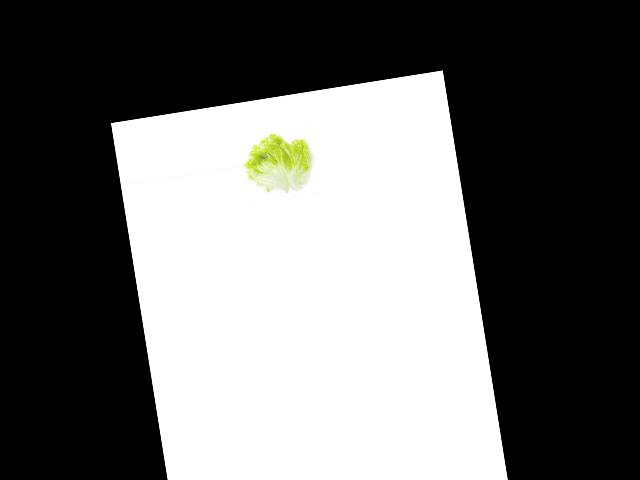lettuce: (238, 129, 322, 200)
